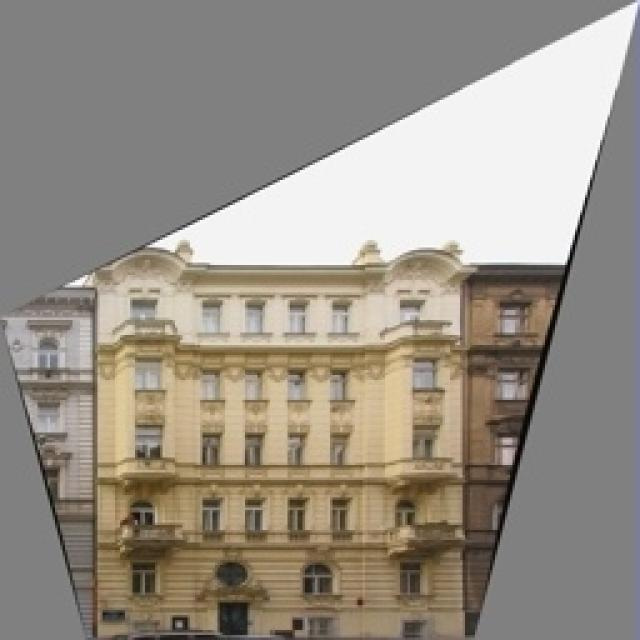building: (98, 205, 470, 640)
